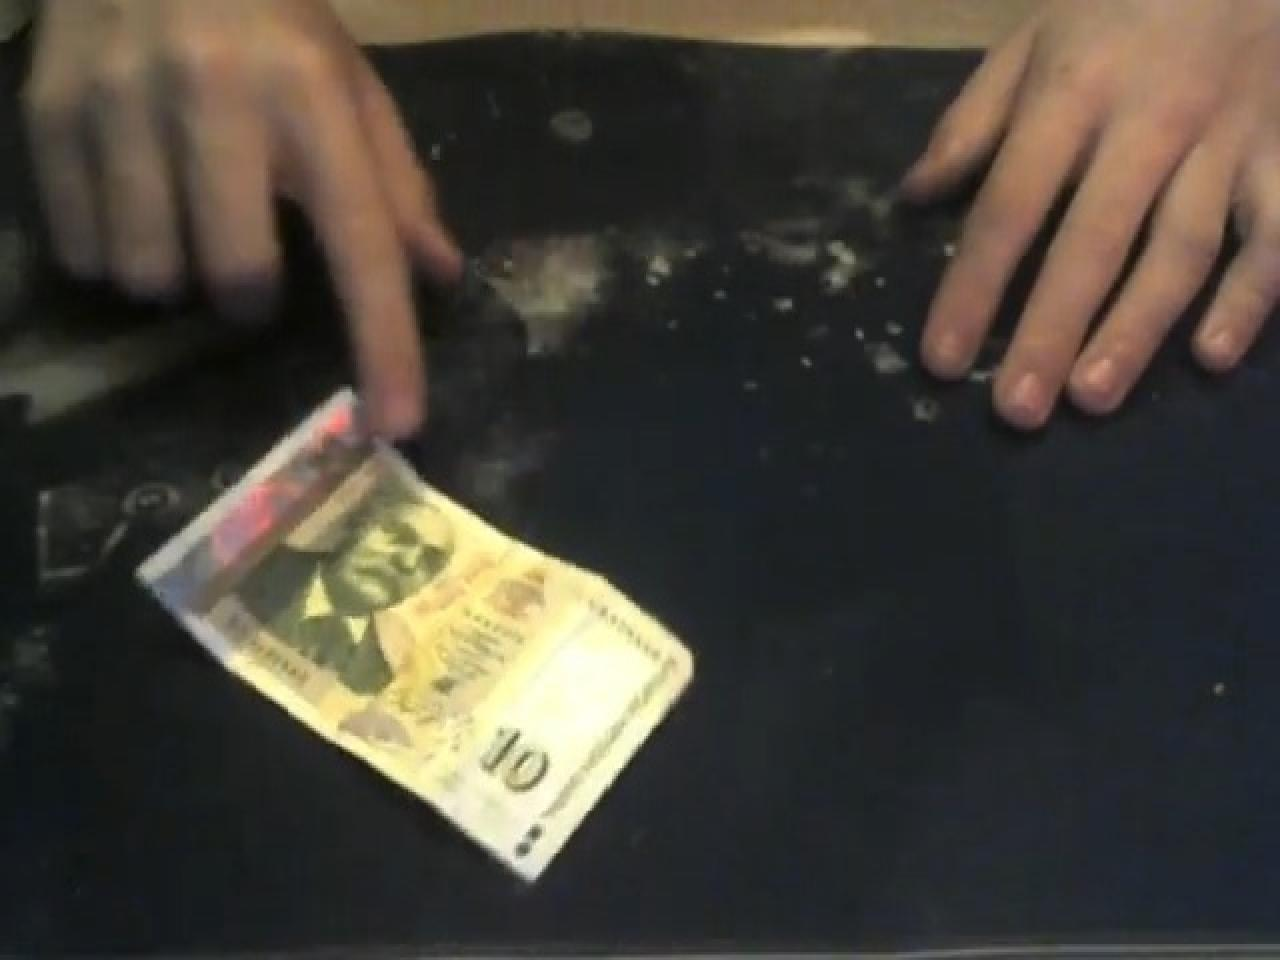10leva: (134, 400, 694, 882)
